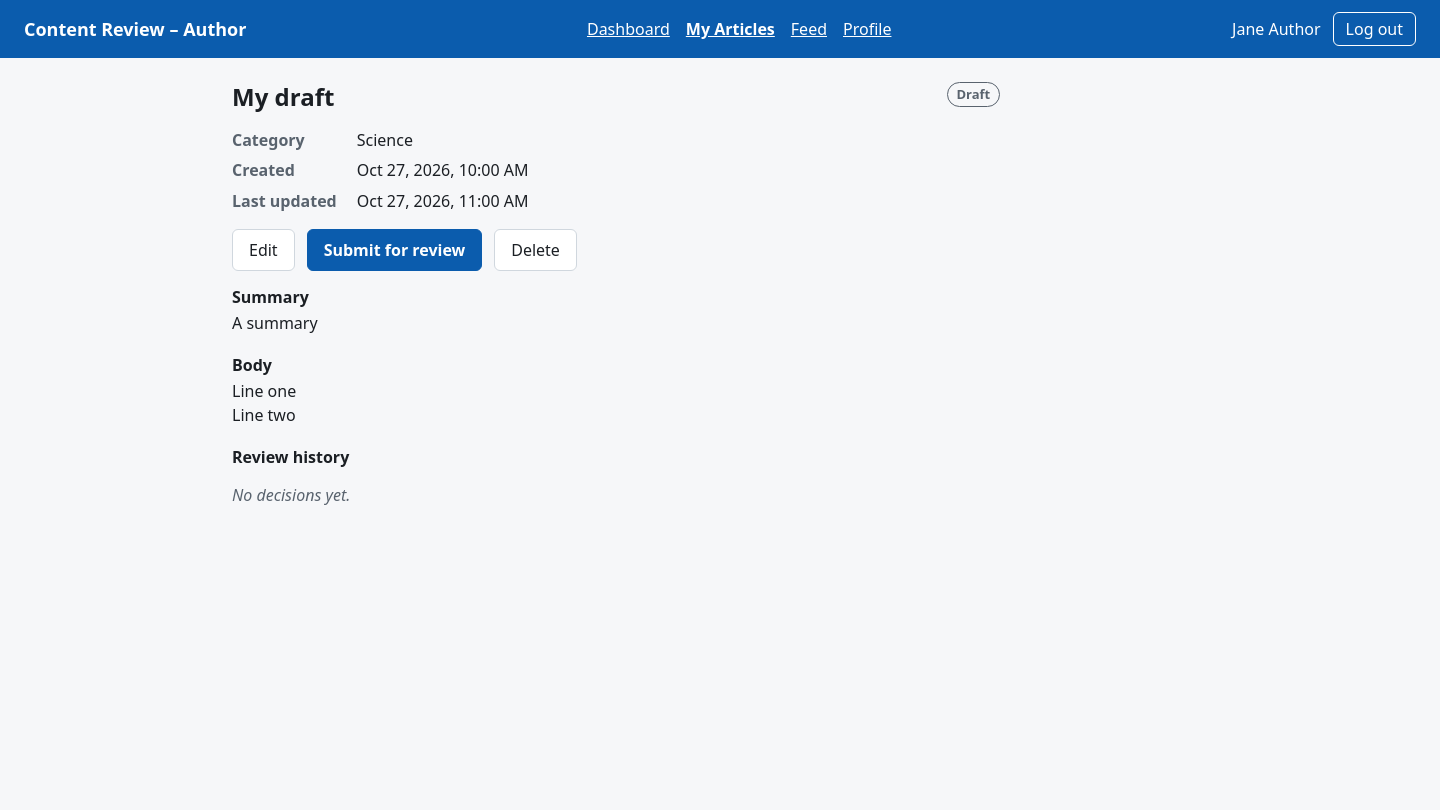
Test: deleting a draft › keeps the draft when cancelled
Click the button with test id "article-delete": coordinates (536, 250) [494, 229, 577, 271]
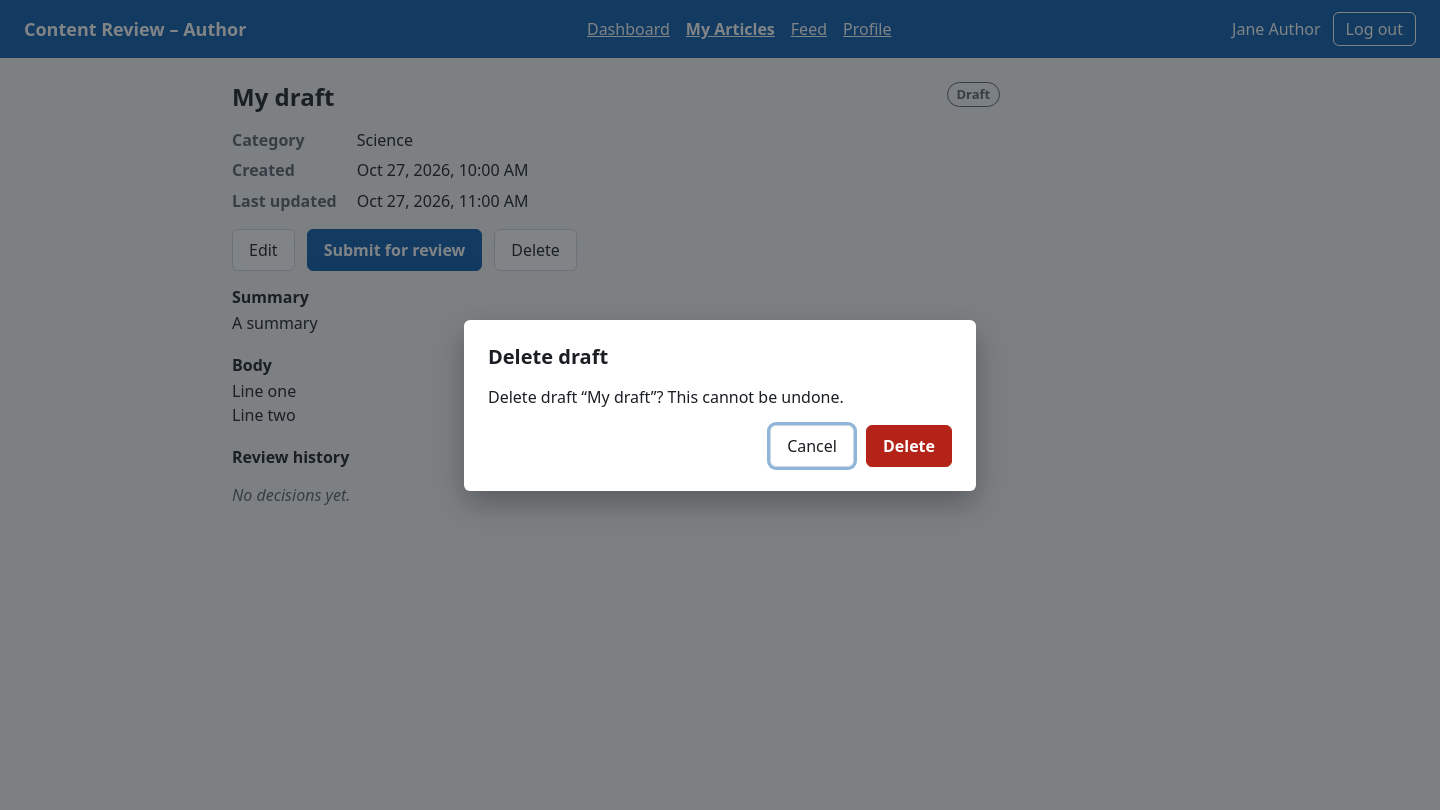
Click the button "Cancel": coordinates (812, 446) [770, 424, 854, 466]
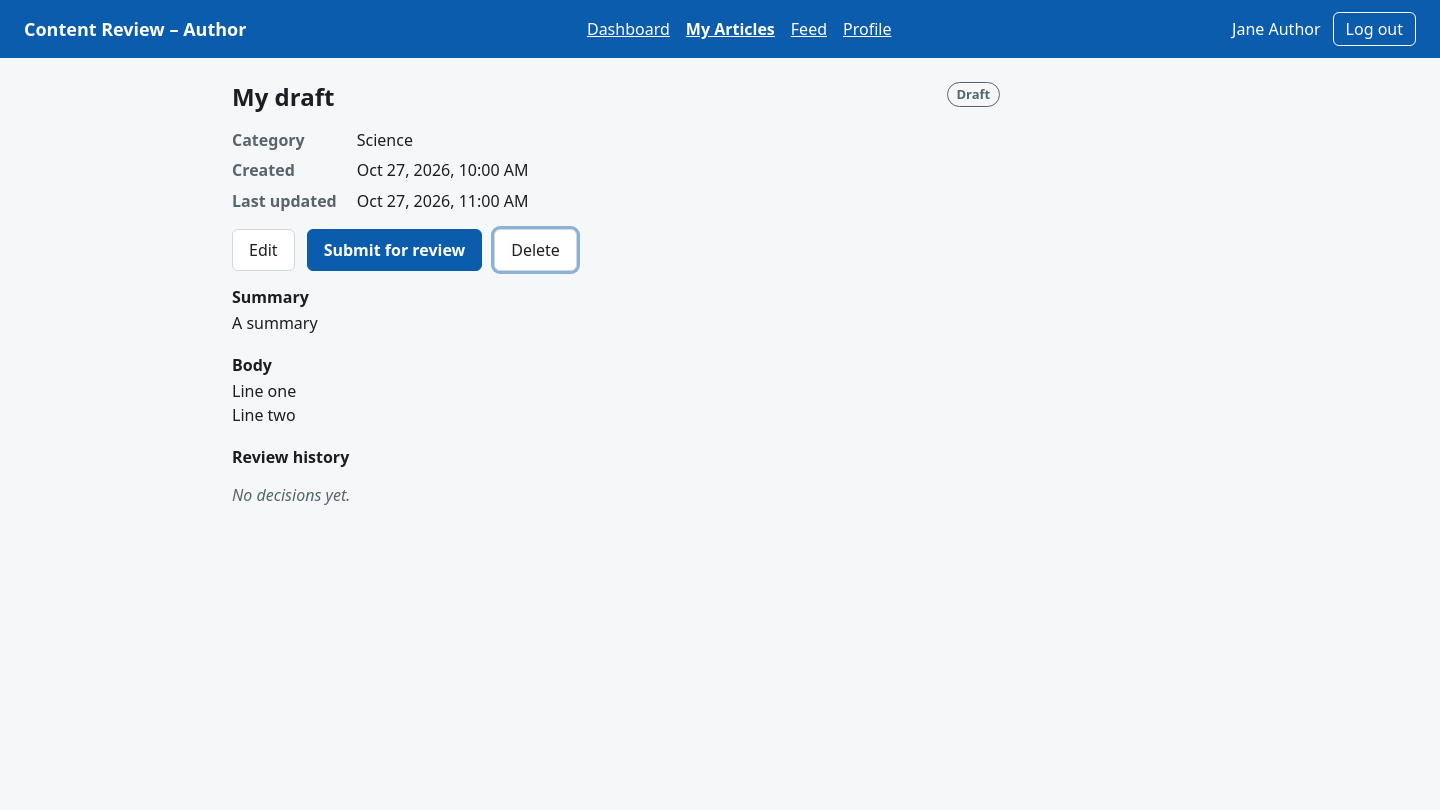
Expected: the heading "My draft" is shown, [232, 82, 334, 112]
Expected: the dialog is gone
